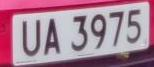3: (69, 10, 91, 56)
5: (125, 7, 144, 48)
7: (108, 8, 128, 51)
9: (89, 10, 111, 53)
A: (42, 12, 64, 62)
U: (20, 15, 43, 62)
